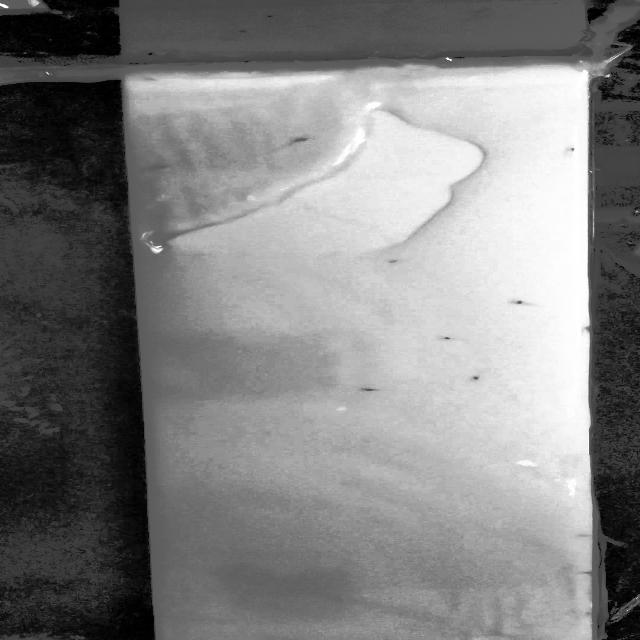shrimp: (276, 132, 317, 147), (142, 158, 180, 170), (381, 256, 411, 269), (505, 300, 546, 308), (559, 144, 580, 157), (356, 387, 384, 395), (441, 334, 466, 342), (468, 372, 482, 384)
